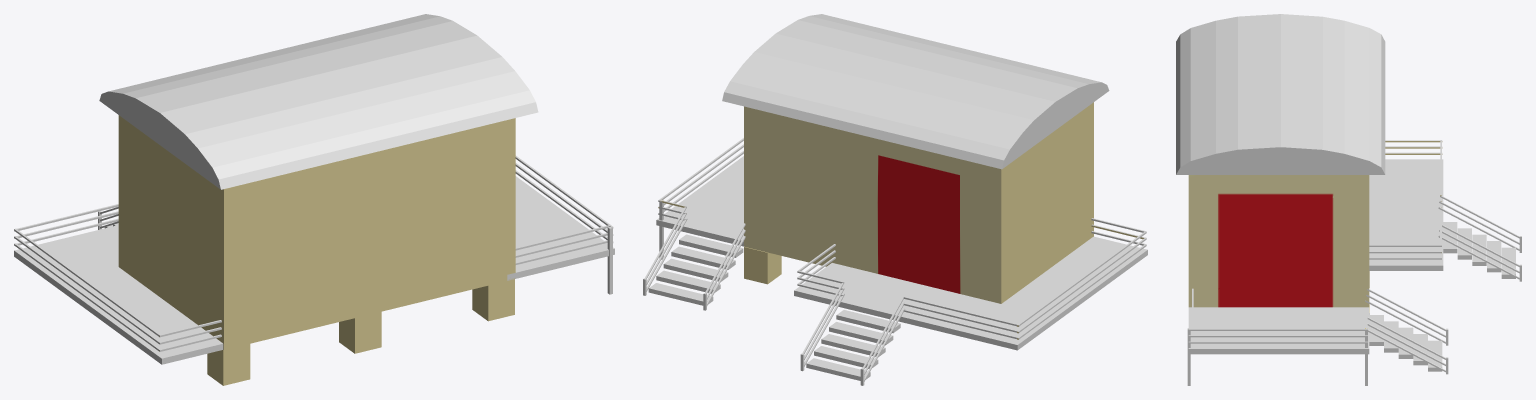
Rendered from casetav2.dae.
3 renders of one model, left to right at view 1: azimuth 30°, elevation 25°; view 2: azimuth 150°, elevation 25°; view 3: azimuth 270°, elevation 25°, orthographic. The views are drawn at different scales.
Visible parts, largest first — view 1: Plane.001; view 2: Plane.001; view 3: Plane.001.
Boxes of the visible parts, x1=… form: Plane.001: x1=14, y1=14, x2=614, y2=385; Plane.001: x1=643, y1=14, x2=1147, y2=385; Plane.001: x1=1176, y1=14, x2=1521, y2=385.
Size of the model in its own units: 17.24 by 13.25 by 8.67.
Materials: 5 (2 with a texture image).
